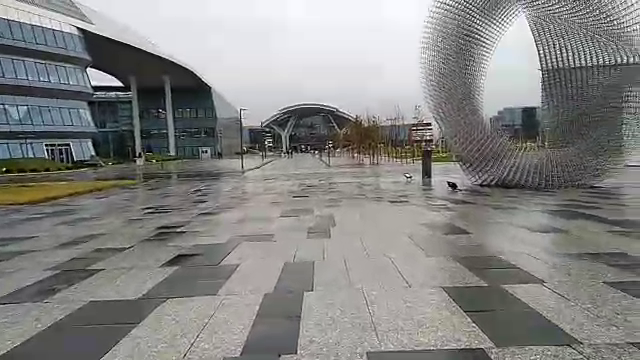mega: (258, 102, 371, 162)
